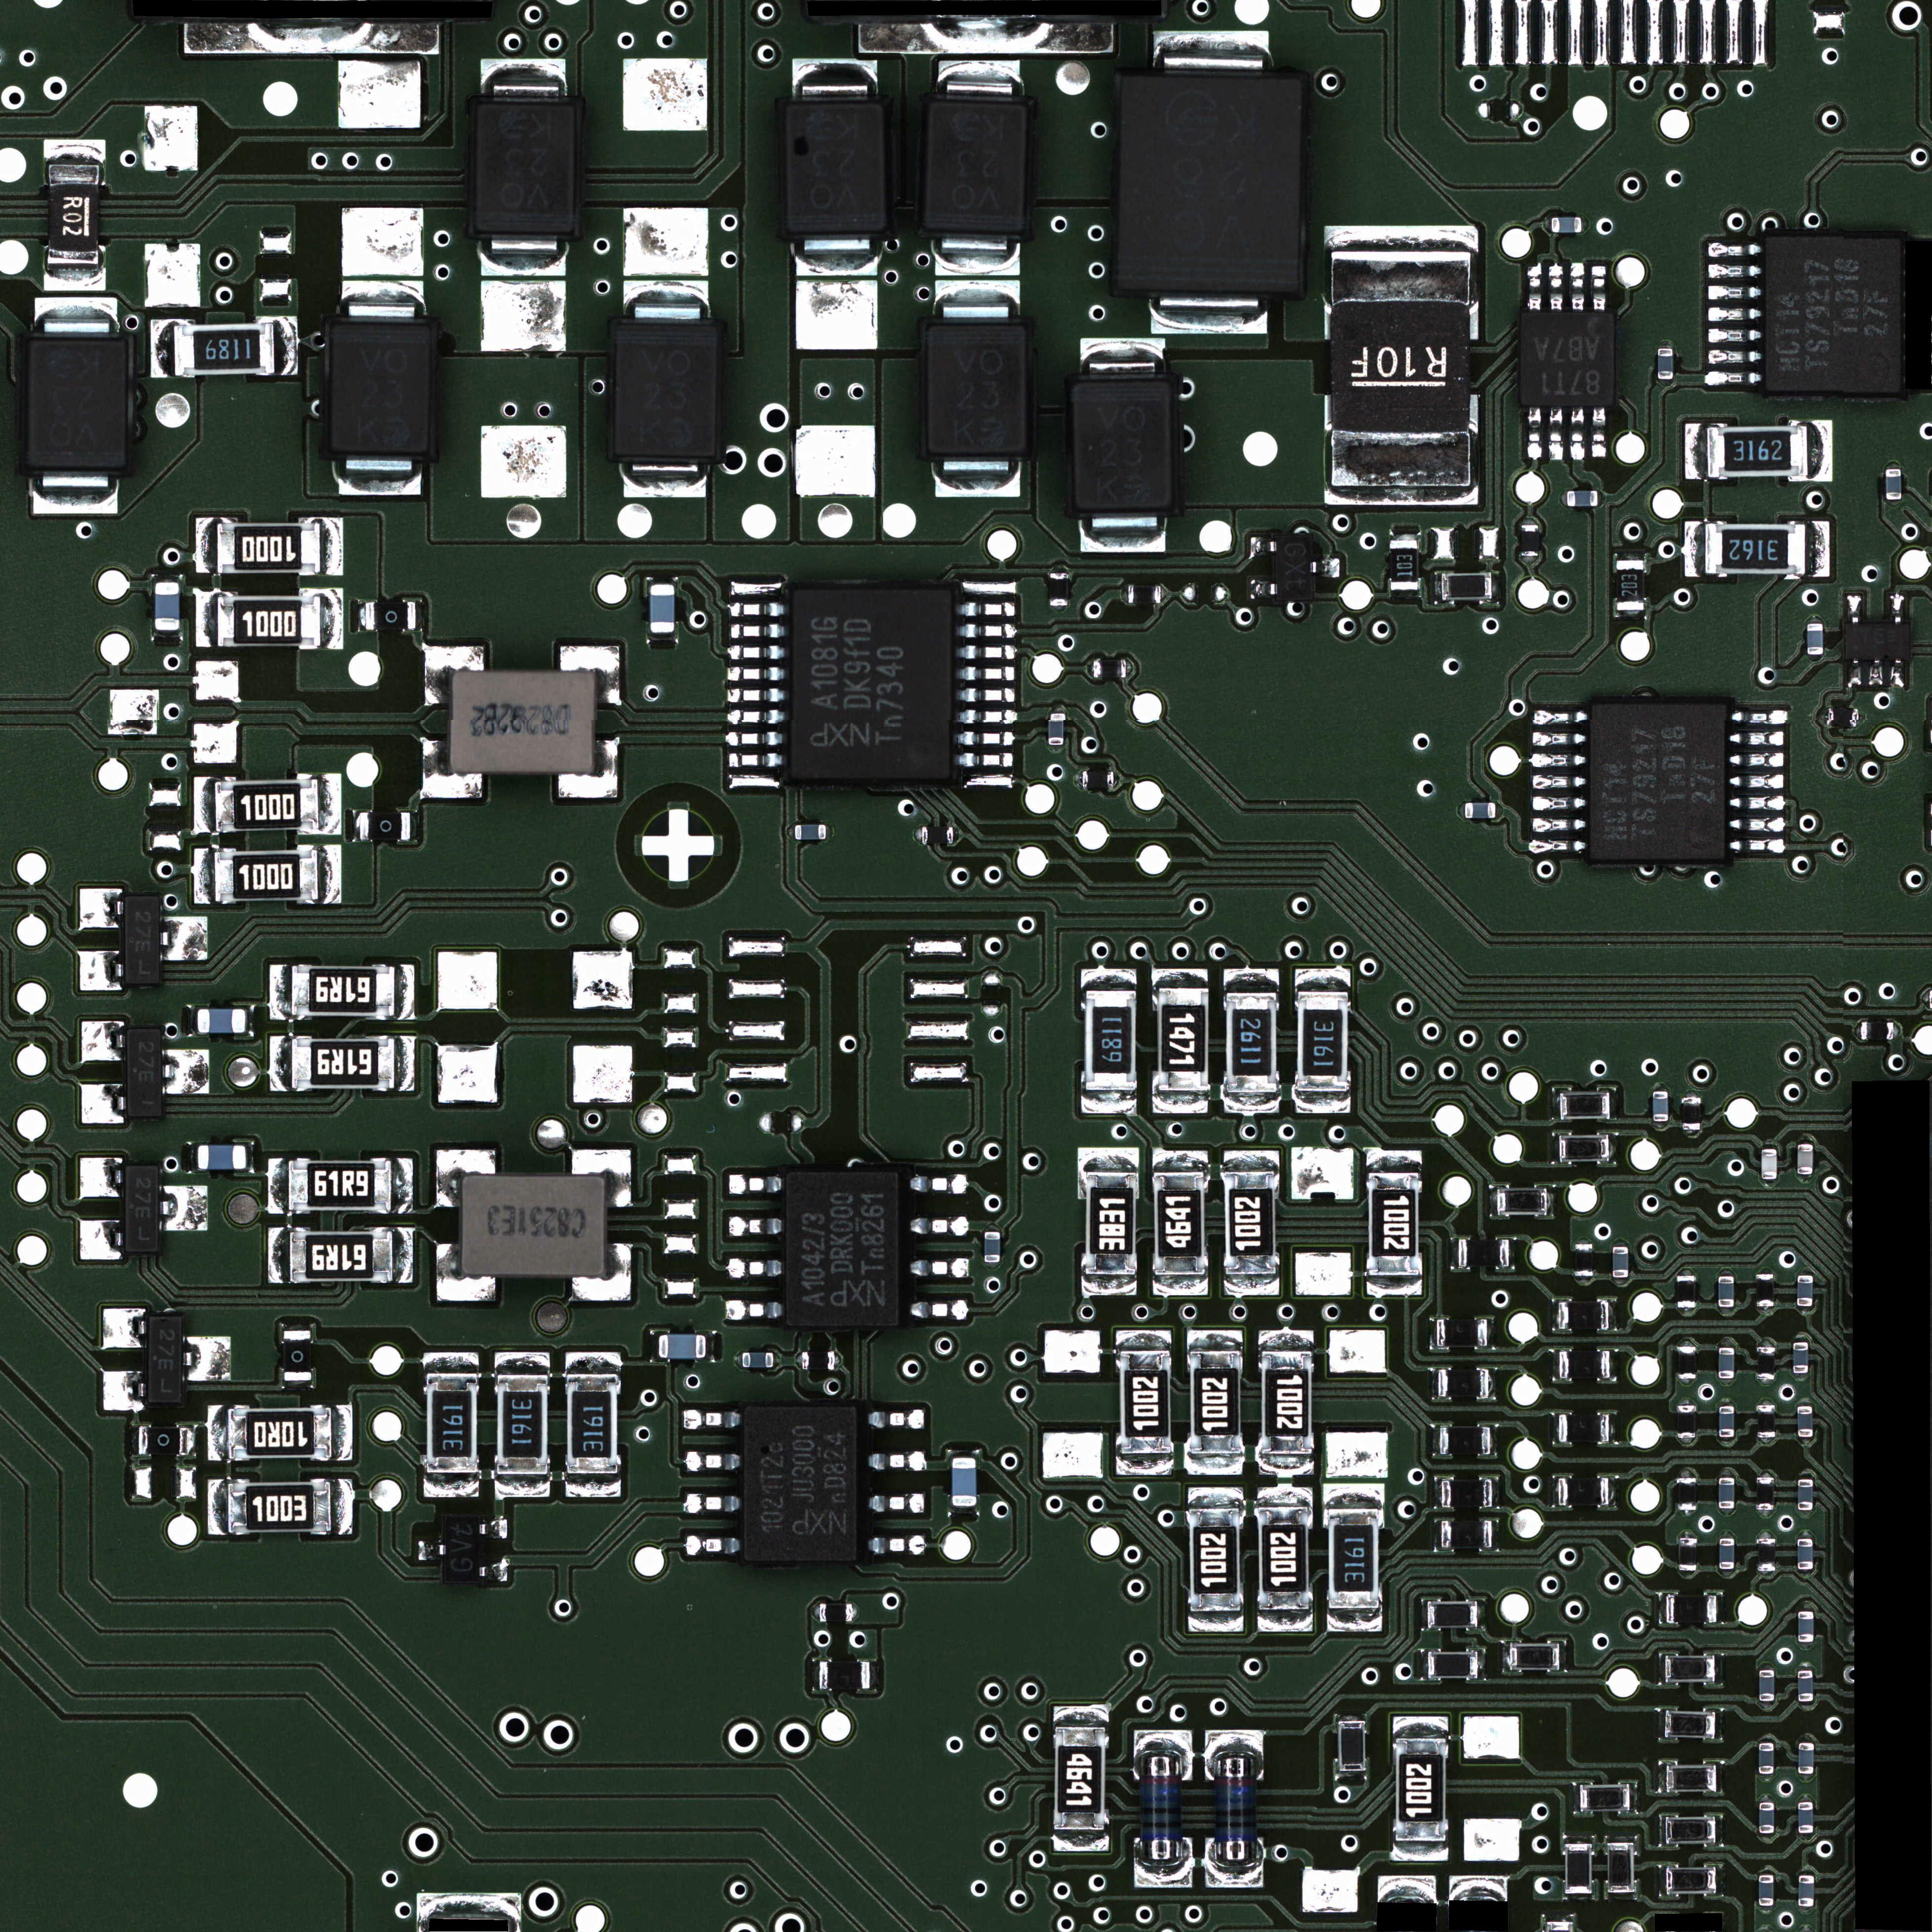Package: (1117, 75, 1302, 294), (785, 580, 959, 786), (1332, 253, 1470, 484), (1586, 700, 1729, 861), (1765, 237, 1902, 396), (782, 1166, 906, 1327), (743, 1406, 862, 1563), (327, 316, 440, 455), (447, 670, 599, 771), (460, 1174, 608, 1275), (1072, 377, 1180, 515), (26, 333, 130, 471), (616, 321, 718, 460), (926, 318, 1025, 460), (474, 102, 581, 232), (787, 101, 885, 241), (931, 99, 1027, 239), (1515, 310, 1616, 406), (1516, 312, 1616, 406), (1055, 1728, 1110, 1830), (1368, 1174, 1422, 1277), (1326, 1510, 1381, 1609), (1261, 1352, 1314, 1454), (216, 849, 316, 903), (1257, 1511, 1311, 1611), (426, 1373, 478, 1475), (290, 966, 393, 1017), (289, 1159, 390, 1211), (1120, 1350, 1171, 1455), (290, 1037, 393, 1089), (289, 1230, 390, 1282), (228, 1481, 330, 1533), (216, 522, 319, 573), (1154, 1173, 1206, 1274), (229, 1409, 329, 1460), (1190, 1510, 1241, 1612), (218, 779, 318, 831), (218, 596, 319, 646), (1226, 1172, 1276, 1274), (497, 1376, 547, 1476), (174, 324, 273, 375), (1397, 1740, 1447, 1841), (1708, 426, 1806, 477), (1706, 523, 1804, 574), (1087, 1171, 1135, 1274), (49, 166, 99, 264), (1190, 1352, 1241, 1448), (1158, 990, 1207, 1092), (1298, 993, 1348, 1091), (568, 1376, 617, 1475), (1086, 991, 1134, 1091), (1228, 995, 1276, 1093), (1217, 1754, 1256, 1865), (1142, 1754, 1181, 1865), (126, 1028, 163, 1118), (124, 896, 161, 984), (124, 1164, 159, 1256), (147, 1315, 183, 1405), (442, 1519, 483, 1582), (1846, 623, 1909, 658), (1279, 535, 1312, 597), (364, 601, 416, 630), (1616, 560, 1645, 611), (359, 813, 410, 841), (1436, 1319, 1486, 1348), (1559, 1351, 1609, 1379), (283, 1331, 311, 1381), (1559, 1302, 1608, 1330), (1667, 1594, 1716, 1623), (820, 1661, 869, 1690), (1440, 1370, 1489, 1398), (1665, 1711, 1714, 1739), (1560, 1478, 1609, 1505), (1443, 1521, 1491, 1548), (1459, 1239, 1507, 1266), (1560, 1133, 1608, 1160), (140, 1428, 189, 1454), (1560, 1414, 1608, 1441), (1497, 1189, 1546, 1215), (1444, 1480, 1491, 1507), (1441, 1428, 1491, 1454), (1565, 1843, 1591, 1893), (1339, 1720, 1364, 1770), (198, 1144, 246, 1170), (1429, 1601, 1478, 1627), (650, 584, 675, 633), (1429, 1652, 1477, 1678), (1510, 1644, 1558, 1669), (1667, 1766, 1716, 1790), (1562, 1093, 1610, 1117), (952, 1458, 976, 1506), (1582, 1786, 1630, 1811), (198, 1008, 245, 1033), (1667, 1817, 1714, 1842), (154, 582, 179, 630), (1609, 1842, 1632, 1893), (1443, 574, 1491, 598), (1667, 1656, 1714, 1681), (1667, 1868, 1714, 1892), (660, 1334, 706, 1359), (1391, 539, 1418, 580), (1049, 574, 1069, 607), (1519, 524, 1540, 557), (819, 1602, 854, 1622), (1683, 1096, 1701, 1130), (1861, 1021, 1894, 1040), (1678, 1346, 1697, 1379), (1678, 1477, 1696, 1510), (920, 826, 954, 845), (1677, 1275, 1695, 1307), (1756, 1348, 1775, 1379), (1575, 1245, 1594, 1276), (1082, 771, 1114, 788), (1128, 585, 1161, 603), (1678, 1405, 1695, 1438), (1679, 1537, 1697, 1570), (1757, 1405, 1776, 1437), (1756, 1274, 1774, 1306), (1758, 1539, 1776, 1571), (1094, 660, 1126, 677), (1797, 1611, 1815, 1642), (1757, 1478, 1774, 1510), (1806, 623, 1823, 654), (804, 1352, 835, 1369), (1796, 1538, 1813, 1569), (1796, 1405, 1813, 1437), (1796, 1275, 1813, 1305), (1566, 490, 1597, 506), (1797, 1743, 1814, 1773), (1885, 470, 1901, 500), (1798, 1875, 1814, 1906), (984, 1231, 1000, 1262), (1657, 348, 1673, 379), (1551, 216, 1581, 233), (1759, 1743, 1774, 1774), (1797, 1670, 1813, 1700), (1797, 1478, 1813, 1508), (1792, 1342, 1808, 1372), (1759, 1875, 1774, 1906), (1759, 1803, 1775, 1833), (1759, 1670, 1775, 1700), (1798, 1803, 1814, 1833), (1797, 1144, 1813, 1173), (1719, 1406, 1734, 1437), (1761, 1148, 1776, 1178), (1652, 1091, 1668, 1120), (743, 1352, 772, 1367), (1719, 1277, 1734, 1306), (1719, 1349, 1734, 1378), (796, 824, 825, 839), (1720, 1479, 1735, 1508), (1720, 1539, 1735, 1568), (1466, 802, 1495, 818), (1613, 1248, 1628, 1276)
Solder: (181, 20, 440, 56), (855, 21, 1114, 54), (1155, 30, 1269, 71), (1146, 296, 1264, 335), (482, 58, 570, 102), (559, 645, 622, 706), (572, 1149, 633, 1208), (1326, 227, 1478, 250), (557, 740, 618, 798), (423, 740, 483, 797), (425, 647, 485, 705), (31, 474, 118, 514), (792, 59, 874, 99), (437, 1245, 495, 1301), (573, 1243, 630, 1300), (624, 281, 706, 319), (338, 458, 421, 496), (438, 1148, 495, 1204), (936, 61, 1022, 97), (482, 238, 565, 275), (933, 462, 1020, 498), (1079, 338, 1165, 374), (1080, 517, 1166, 553), (1325, 485, 1476, 505), (936, 280, 1018, 316), (934, 241, 1019, 275), (625, 463, 706, 498), (795, 242, 877, 276), (36, 297, 119, 331), (342, 281, 422, 315), (416, 1892, 521, 1917), (161, 1184, 208, 1231), (163, 1049, 210, 1096), (185, 1335, 231, 1383), (161, 916, 208, 962), (81, 1083, 126, 1123), (81, 1020, 124, 1062), (79, 950, 123, 990), (80, 1157, 122, 1198), (103, 1369, 145, 1410), (80, 888, 122, 928), (103, 1308, 145, 1349), (80, 1220, 122, 1259), (43, 266, 104, 292), (910, 1256, 970, 1281), (909, 1213, 970, 1238), (863, 1450, 927, 1473), (45, 139, 105, 163), (274, 315, 297, 376), (1808, 421, 1832, 482), (1449, 1875, 1507, 1899), (1080, 1147, 1139, 1171), (863, 1532, 926, 1554), (1377, 1876, 1436, 1899), (682, 1532, 741, 1556), (911, 1296, 967, 1320), (682, 1491, 741, 1514), (1322, 1485, 1383, 1507), (1134, 1728, 1191, 1751), (864, 1493, 925, 1514), (686, 1447, 741, 1471), (320, 774, 341, 835), (1297, 967, 1350, 991), (1806, 522, 1830, 576), (1081, 1091, 1135, 1114), (321, 589, 342, 648), (683, 1409, 740, 1431), (1367, 1149, 1422, 1171), (1153, 1149, 1208, 1171), (425, 1475, 479, 1497), (320, 846, 340, 905), (1225, 968, 1278, 991), (726, 1298, 781, 1320), (1224, 1093, 1280, 1114), (495, 1352, 550, 1374), (566, 1352, 621, 1374), (322, 518, 342, 576), (1209, 1730, 1262, 1752), (1686, 424, 1707, 480), (193, 848, 214, 904), (565, 1475, 621, 1497), (909, 1173, 967, 1193), (152, 320, 173, 377), (392, 1157, 413, 1214), (1295, 1092, 1351, 1113), (195, 777, 216, 832), (863, 1410, 925, 1429), (1054, 1704, 1109, 1725), (208, 1405, 229, 1461), (1082, 968, 1136, 989), (1186, 1455, 1242, 1475), (730, 1214, 780, 1236), (1083, 1275, 1137, 1296), (495, 1477, 549, 1498), (424, 1352, 478, 1372), (729, 1257, 780, 1279), (1224, 1149, 1279, 1169), (1117, 1455, 1173, 1475), (1225, 1275, 1279, 1296), (1153, 1093, 1207, 1113), (334, 1405, 353, 1460), (1054, 1833, 1109, 1852), (1258, 1612, 1311, 1632), (334, 1479, 353, 1535), (269, 1158, 288, 1214), (1328, 1611, 1381, 1631), (730, 1174, 781, 1195), (196, 518, 215, 573), (1685, 522, 1704, 577), (393, 1229, 413, 1284), (1703, 369, 1763, 387), (271, 965, 290, 1020), (197, 591, 216, 647), (271, 1036, 290, 1092), (1392, 1843, 1448, 1862), (1258, 1456, 1312, 1476), (1188, 1614, 1243, 1633), (1190, 1487, 1245, 1505), (1258, 1490, 1313, 1508), (1393, 1719, 1449, 1737), (1367, 1277, 1422, 1296), (1154, 1277, 1207, 1296), (1116, 1329, 1170, 1348), (728, 709, 784, 726), (1188, 1329, 1242, 1348), (270, 1228, 288, 1283), (209, 1479, 227, 1535), (1705, 306, 1763, 323), (1706, 241, 1763, 258), (1706, 263, 1763, 280), (1705, 285, 1762, 301), (1706, 349, 1763, 366), (1705, 327, 1762, 344), (725, 730, 784, 747), (1259, 1332, 1313, 1350), (1137, 1868, 1191, 1885), (1208, 1868, 1261, 1885), (1152, 968, 1207, 985), (961, 601, 1016, 617), (396, 965, 413, 1018), (1530, 753, 1586, 769), (397, 1037, 413, 1091), (960, 709, 1018, 724), (960, 731, 1016, 747), (1533, 818, 1585, 834), (960, 687, 1015, 703), (1570, 408, 1586, 462), (727, 688, 784, 703), (1591, 408, 1606, 461), (1548, 408, 1564, 461), (731, 579, 784, 595), (1730, 795, 1785, 811), (729, 753, 785, 768), (961, 645, 1017, 660), (1730, 774, 1784, 789), (729, 667, 784, 681), (1730, 817, 1785, 832), (730, 645, 784, 660), (731, 601, 784, 617), (1528, 408, 1543, 460), (1533, 795, 1586, 811), (1530, 839, 1586, 853), (1730, 731, 1784, 746), (960, 667, 1015, 681), (960, 624, 1017, 638), (1731, 711, 1786, 725), (1534, 710, 1587, 725), (960, 581, 1016, 595), (1533, 775, 1586, 790), (1730, 753, 1784, 767), (1548, 262, 1564, 311), (729, 774, 784, 788), (1731, 839, 1784, 853), (960, 753, 1012, 767), (1591, 264, 1606, 311), (732, 624, 784, 638), (1571, 263, 1586, 311), (1528, 263, 1543, 311), (1249, 578, 1278, 601), (1249, 535, 1278, 558), (1533, 734, 1585, 745), (1313, 557, 1340, 579), (1846, 660, 1862, 689), (418, 1541, 442, 1560), (483, 1519, 507, 1538), (483, 1562, 507, 1581), (1869, 660, 1883, 689), (1541, 1911, 1576, 1922), (1891, 660, 1905, 689), (1846, 593, 1860, 622), (1889, 593, 1903, 621), (246, 1142, 255, 1173), (1616, 549, 1644, 559), (247, 1007, 257, 1037), (1390, 530, 1419, 539), (188, 1005, 197, 1034), (1391, 581, 1420, 590), (948, 1447, 980, 1455), (869, 1660, 878, 1690), (810, 1660, 819, 1690), (949, 1508, 980, 1516), (1659, 1593, 1667, 1625), (1562, 1835, 1595, 1842), (1478, 1650, 1486, 1681), (651, 1333, 659, 1359), (1616, 611, 1646, 618), (1421, 1649, 1428, 1680), (706, 1335, 714, 1361), (416, 602, 423, 630), (356, 602, 364, 630), (411, 811, 418, 838), (351, 812, 359, 840), (283, 1381, 311, 1388), (131, 1429, 139, 1454), (1434, 574, 1442, 600), (1491, 575, 1498, 600), (1503, 1642, 1509, 1673), (1574, 1783, 1580, 1814), (1716, 1592, 1722, 1624), (1659, 1653, 1665, 1685), (1717, 1762, 1723, 1793), (1660, 1814, 1666, 1845), (1716, 1864, 1722, 1896), (1560, 1641, 1566, 1672), (1630, 1782, 1636, 1813), (1716, 1652, 1722, 1684), (1715, 1708, 1721, 1739), (1660, 1763, 1666, 1794), (1715, 1813, 1721, 1844), (1659, 1865, 1665, 1896), (153, 576, 182, 582), (153, 631, 181, 637), (191, 1144, 197, 1172), (282, 1323, 310, 1330), (1085, 659, 1094, 680), (648, 634, 676, 640), (1435, 1477, 1441, 1509), (1492, 1477, 1497, 1509), (1547, 1187, 1552, 1219), (1552, 1412, 1558, 1445), (1610, 1475, 1615, 1508), (1554, 1089, 1560, 1121), (1605, 1836, 1638, 1841), (1421, 1598, 1427, 1631), (1479, 1599, 1484, 1632), (1436, 1518, 1441, 1550), (1491, 1425, 1496, 1457), (1490, 1369, 1496, 1401), (1435, 1426, 1440, 1458), (1434, 1368, 1439, 1400), (1487, 1317, 1492, 1349), (1552, 1301, 1557, 1333), (1430, 1317, 1435, 1350), (1609, 1299, 1615, 1331), (1610, 1349, 1615, 1381), (1552, 1350, 1558, 1382), (1452, 1238, 1457, 1270), (1509, 1238, 1514, 1270), (1491, 1187, 1496, 1219), (1609, 1132, 1615, 1164), (1553, 1132, 1558, 1164), (1609, 1412, 1615, 1444), (1554, 1476, 1559, 1508), (1611, 1088, 1616, 1120), (1126, 659, 1135, 679), (190, 1427, 196, 1456), (1659, 1708, 1664, 1740), (648, 577, 676, 582), (1493, 1518, 1497, 1550), (954, 826, 962, 844), (826, 822, 834, 840), (772, 1351, 780, 1369), (1566, 1894, 1594, 1899), (1607, 1893, 1636, 1898), (1340, 1772, 1367, 1777), (1073, 771, 1081, 789), (1115, 771, 1122, 788), (912, 826, 919, 844), (787, 823, 795, 841), (733, 1352, 740, 1369), (1338, 1714, 1361, 1719), (1577, 1276, 1593, 1283), (1681, 1569, 1695, 1577), (1680, 1509, 1695, 1516), (1652, 1083, 1667, 1090), (1680, 1379, 1695, 1386), (1680, 1438, 1694, 1445), (1806, 616, 1822, 622), (1658, 379, 1674, 386), (1719, 1342, 1735, 1348), (1720, 1532, 1735, 1538), (1808, 655, 1823, 661), (1758, 1510, 1775, 1516), (1614, 1277, 1628, 1284), (1457, 803, 1464, 817), (1720, 1472, 1735, 1478), (1680, 1530, 1694, 1537), (1521, 557, 1538, 562), (1684, 1131, 1700, 1137), (1719, 1270, 1734, 1276), (1121, 588, 1128, 602), (1798, 1175, 1812, 1181), (1497, 804, 1503, 818), (1757, 1268, 1774, 1273), (1758, 1571, 1775, 1576), (1854, 1022, 1860, 1039), (795, 1352, 801, 1367), (1678, 1269, 1693, 1275), (1679, 1340, 1694, 1346), (1679, 1399, 1693, 1404), (1679, 1470, 1694, 1476), (1657, 341, 1672, 347), (1759, 1400, 1775, 1405), (1797, 1569, 1813, 1575), (1653, 1121, 1667, 1127), (1763, 1179, 1777, 1185), (1894, 1023, 1900, 1037), (1544, 216, 1549, 231), (1684, 1091, 1698, 1096), (1757, 1342, 1774, 1347), (1758, 1472, 1774, 1477), (1721, 1379, 1734, 1386), (1722, 1569, 1734, 1576), (1161, 587, 1167, 601), (1758, 1380, 1774, 1385), (1759, 1533, 1775, 1538), (1053, 567, 1066, 573), (836, 1355, 842, 1367), (1721, 1307, 1733, 1313), (1799, 1604, 1812, 1610), (1799, 1701, 1812, 1707), (1760, 1664, 1773, 1670), (1800, 1737, 1813, 1742), (1799, 1796, 1812, 1802), (1761, 1796, 1774, 1802), (1760, 1869, 1773, 1875), (1722, 1509, 1734, 1515), (1888, 501, 1901, 507), (1582, 217, 1587, 233), (1798, 1306, 1813, 1311), (1793, 1373, 1808, 1378), (986, 1262, 1000, 1268), (1613, 1241, 1626, 1247), (1761, 1701, 1774, 1707), (1760, 1737, 1772, 1742), (1760, 1774, 1773, 1780), (1799, 1774, 1812, 1780), (1800, 1869, 1812, 1875), (1798, 1510, 1813, 1515), (1797, 1532, 1811, 1537), (1885, 463, 1899, 468), (984, 1225, 999, 1230), (1797, 1139, 1811, 1144), (1760, 1438, 1773, 1443), (814, 1605, 819, 1619), (1561, 490, 1565, 506), (1578, 1238, 1590, 1244), (1799, 1643, 1812, 1648), (854, 1604, 859, 1617), (1521, 519, 1536, 524), (1798, 1269, 1812, 1274), (1799, 1906, 1813, 1911), (1798, 1472, 1812, 1477), (1761, 1143, 1776, 1148), (1794, 1336, 1807, 1341), (1799, 1834, 1813, 1838), (1598, 492, 1602, 505), (1758, 1306, 1773, 1310), (1719, 1402, 1734, 1406), (1053, 607, 1066, 612), (1680, 1308, 1694, 1312), (1797, 1437, 1812, 1441), (1761, 1834, 1774, 1838), (1721, 1437, 1732, 1442), (1800, 1666, 1811, 1670), (1761, 1906, 1773, 1910), (1799, 1401, 1811, 1404)
